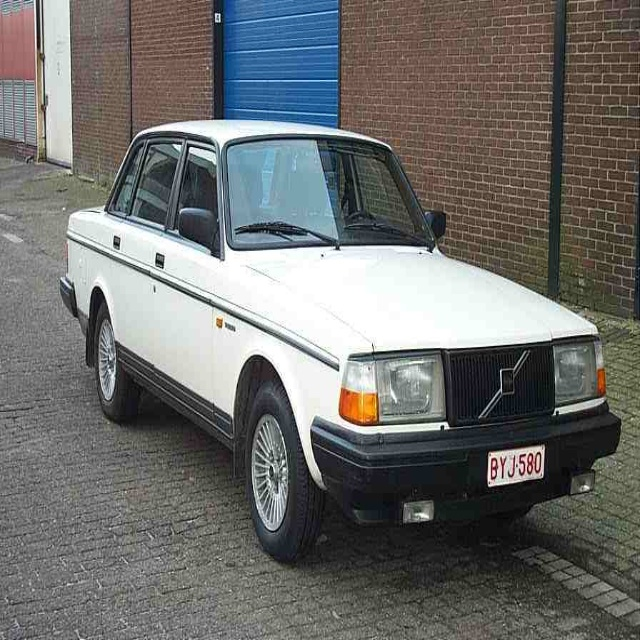Car: (60, 118, 622, 568)
